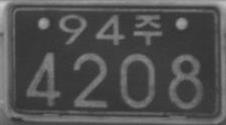0: (119, 52, 156, 109)
2: (72, 50, 108, 108)
4: (25, 51, 60, 107), (94, 14, 125, 45)
8: (167, 52, 204, 110)
9: (58, 13, 88, 45)
주: (133, 13, 163, 45)
